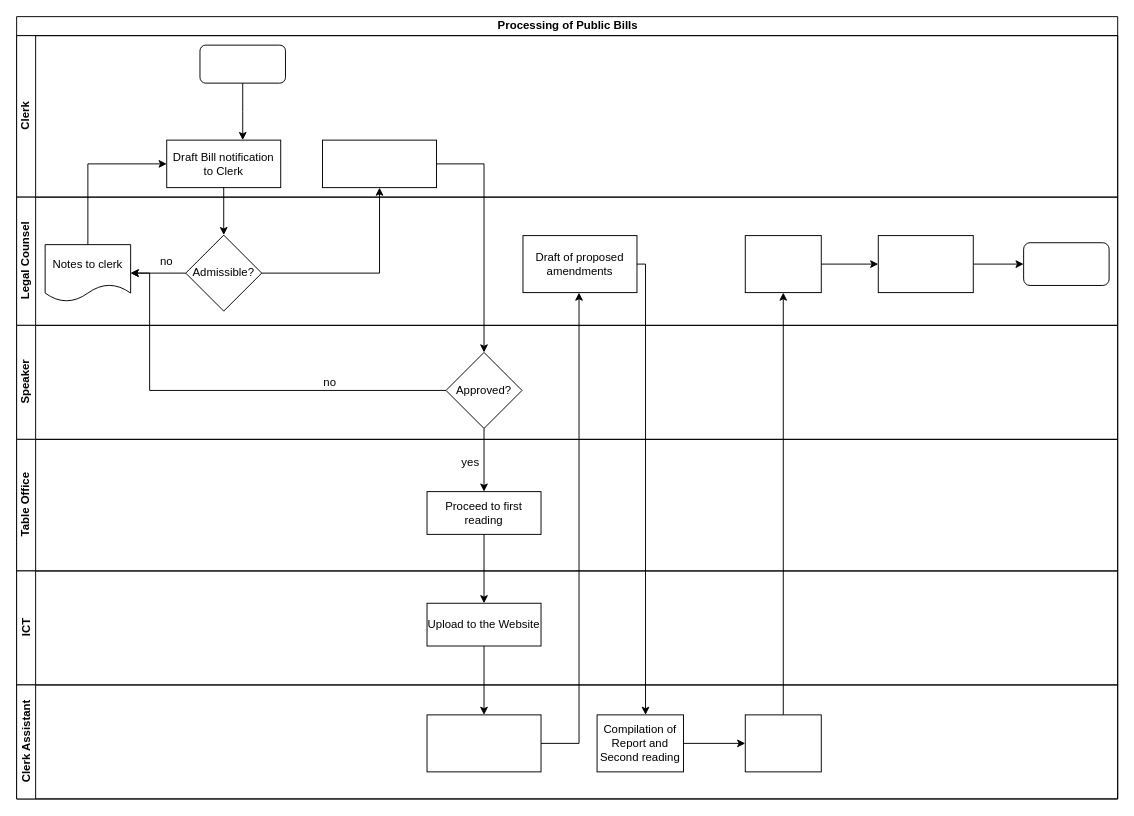
Some shapes in this 1134 by 816 pixel diagram are drawn without their labels. The shapes that lost their labels are listed below. From the top down, each one's centre as x and y in pixels, then its label:
point 242,63: Start
point 379,163: Forward to the speaker
point 782,264: Vellum preparation
point 925,264: Preparation of implementation forwarding letter
point 1066,263: End
point 483,743: Submission of public views
point 782,743: Third Reading
